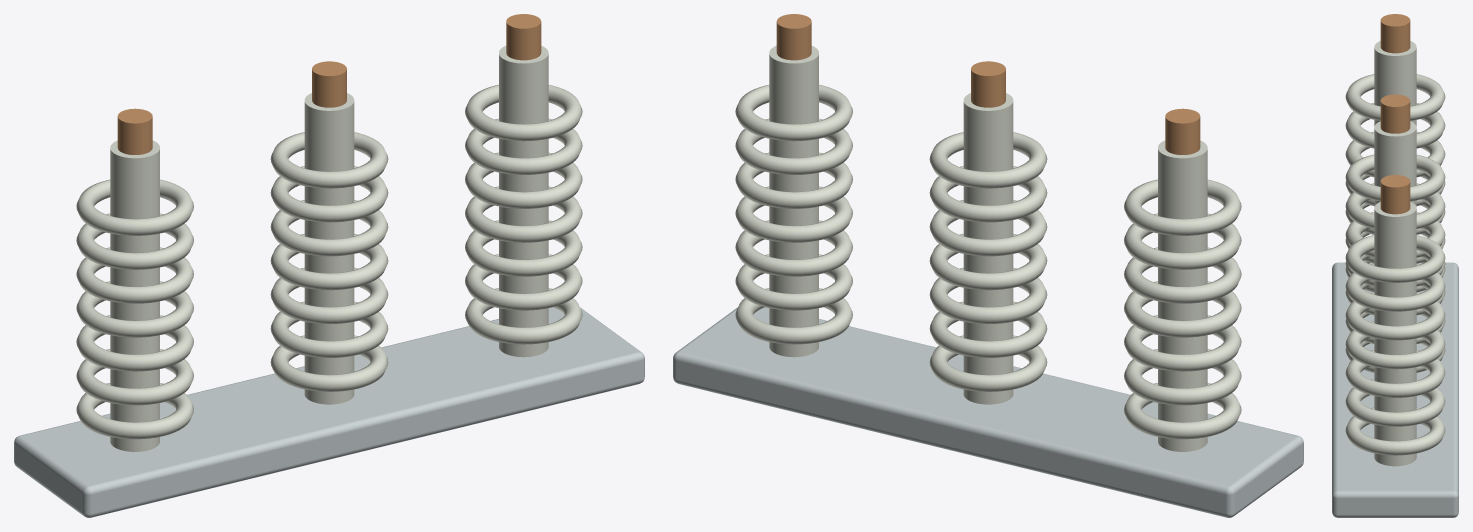
File: hydroelectric-dam-infiltration-insulator-bank-1ae3d299__29351.glb
3 renders of one model, left to right at view 1: azimuth 30°, elevation 25°; view 2: azimuth 150°, elevation 25°; view 3: azimuth 270°, elevation 25°, orthographic. The views are drawn at different scales.
Parts seen in each view (by area): view 1: insulator-bank; view 2: insulator-bank; view 3: insulator-bank.
Boxes of the visible parts, x1=… form: insulator-bank: x1=14, y1=14, x2=644, y2=517; insulator-bank: x1=673, y1=14, x2=1303, y2=517; insulator-bank: x1=1332, y1=14, x2=1458, y2=517.
Bounding box in the file's own units: 1.3 × 0.79 × 0.2999.
